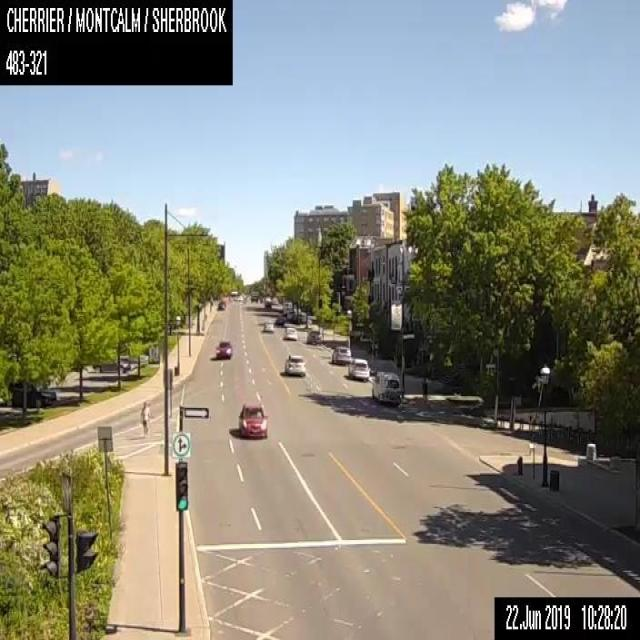pedestrian: (140, 399, 149, 437), (421, 374, 426, 402)
vehicle: (3, 380, 55, 407), (237, 403, 268, 438), (370, 369, 400, 402), (92, 358, 130, 372), (284, 353, 305, 375), (348, 357, 368, 379), (330, 345, 350, 364), (214, 340, 232, 358), (306, 328, 321, 343), (282, 326, 296, 340), (262, 319, 273, 331), (275, 316, 285, 326), (216, 300, 226, 309), (264, 300, 270, 309)
